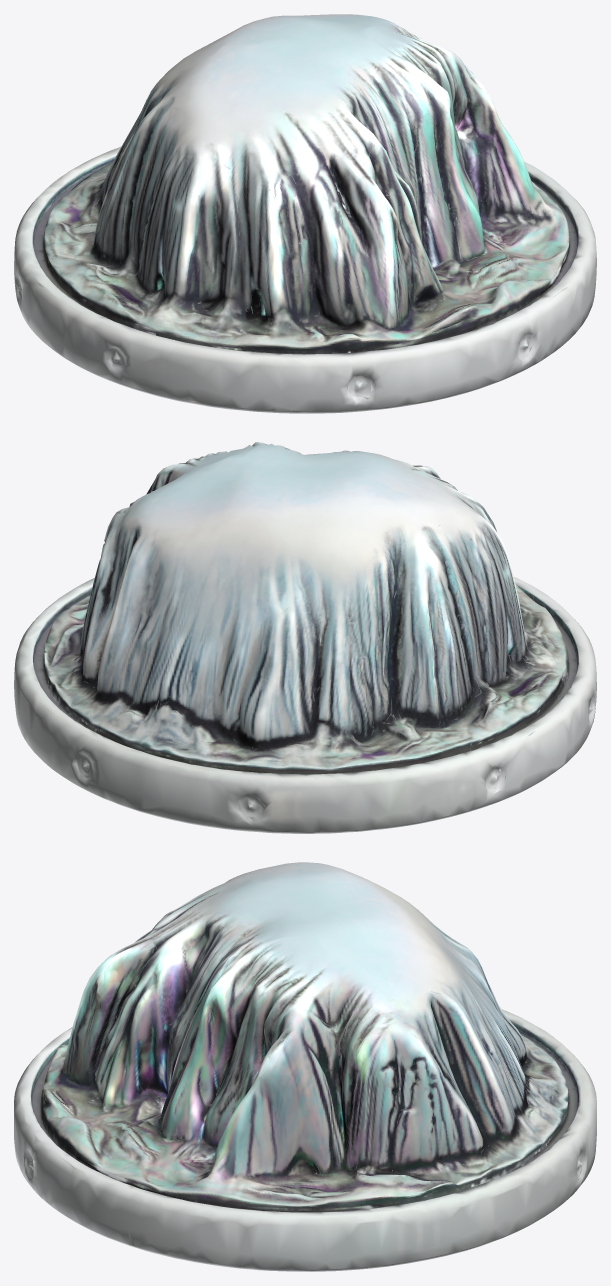
File: uluru_aurora.glb
The picture shows the model from 3 angles, top to bottom: view 1: azimuth 30°, elevation 25°; view 2: azimuth 150°, elevation 25°; view 3: azimuth 270°, elevation 25°; orthographic projection.
Parts seen in each view (by area): view 1: Mesh_0; view 2: Mesh_0; view 3: Mesh_0.
Boxes of the visible parts, x1,y1,x2,y2 form: Mesh_0: [14, 14, 596, 413]; Mesh_0: [14, 442, 596, 833]; Mesh_0: [14, 862, 596, 1271].
Size of the model in its own units: 1.91 by 0.911 by 1.91.
1 material, 1 textured.
